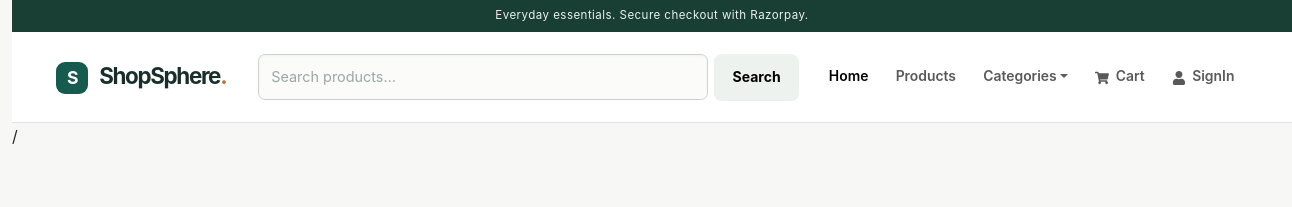
Test: header dropdown category navigates without invalid pathname
Click the button "Categories": (1026, 77) [970,56,1082,98]
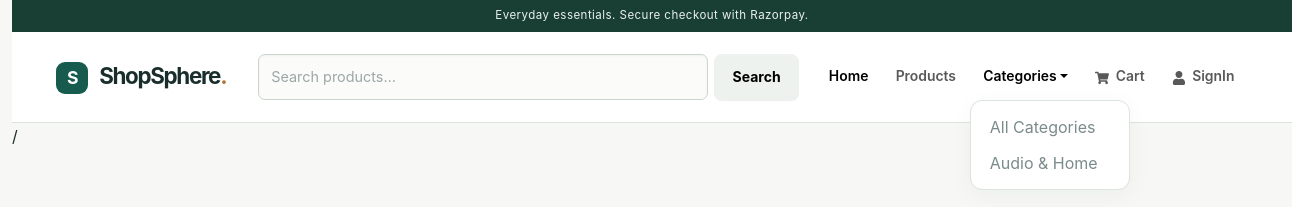
Click the link "Audio & Home": (1044, 163) [990,153,1098,173]
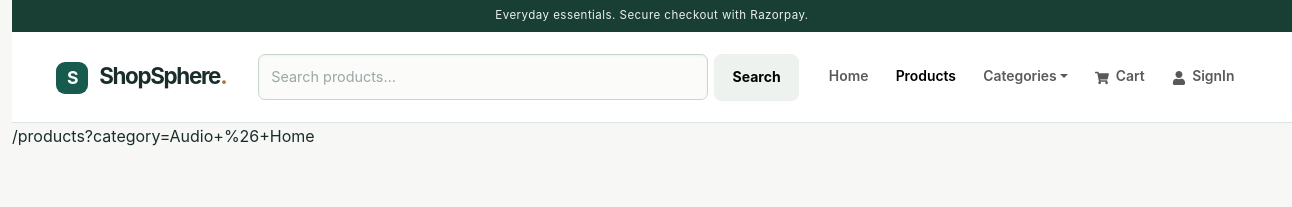
Expected: the text with test id "location" reads "/products?category=Audio+%26+Home", [12,123,315,149]
